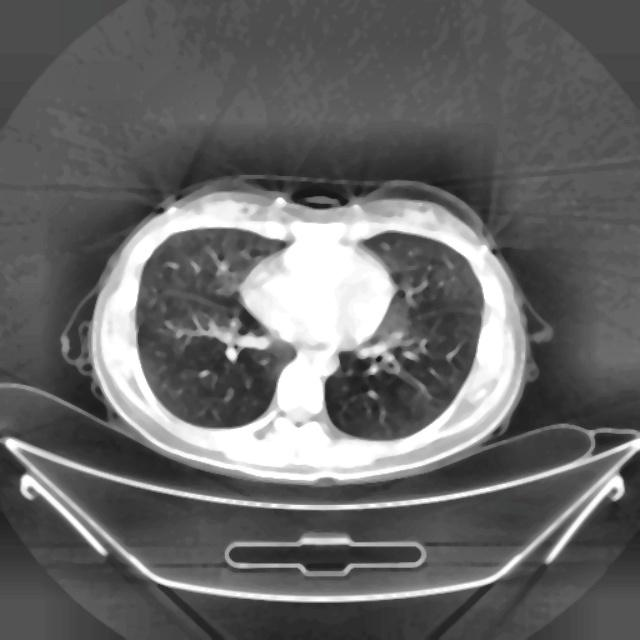covid: (63, 173, 533, 486)
